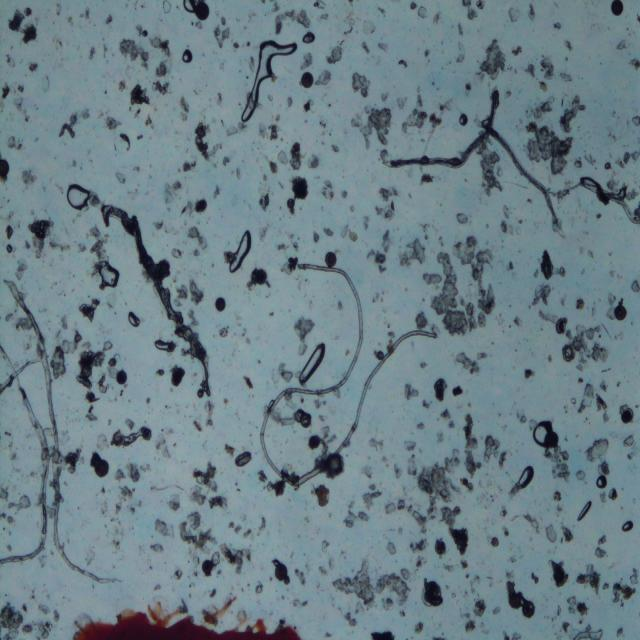Air bubble: (238, 38, 300, 126), (297, 342, 327, 384), (228, 232, 252, 274), (68, 183, 92, 214), (98, 261, 122, 291), (515, 464, 537, 493), (170, 363, 188, 393), (533, 420, 550, 446), (576, 500, 596, 521), (126, 309, 142, 329), (620, 519, 636, 534), (595, 474, 609, 490), (181, 0, 193, 15)
Background material: (435, 252, 472, 337), (523, 120, 573, 176), (568, 324, 618, 372), (334, 556, 378, 610), (382, 493, 431, 538), (179, 512, 219, 554), (472, 251, 494, 325), (461, 408, 484, 478), (418, 462, 456, 504), (148, 483, 206, 510), (359, 103, 393, 149), (544, 434, 574, 485), (375, 570, 413, 604), (114, 39, 154, 71), (481, 35, 507, 82), (268, 10, 314, 36), (7, 5, 39, 42), (560, 90, 588, 132), (194, 121, 222, 160), (77, 348, 105, 386), (371, 183, 399, 221), (222, 544, 252, 579), (191, 458, 221, 493), (398, 235, 428, 268), (419, 575, 447, 610), (307, 423, 335, 457), (576, 562, 604, 596), (406, 2, 446, 25), (49, 343, 71, 384), (74, 295, 103, 326), (610, 576, 637, 609), (111, 424, 153, 445), (0, 599, 23, 637), (547, 552, 571, 588), (454, 350, 483, 379), (502, 577, 526, 612), (449, 525, 473, 560), (483, 435, 507, 469), (452, 235, 481, 263), (524, 95, 554, 122), (516, 508, 544, 536), (28, 216, 56, 244), (574, 381, 597, 415), (126, 81, 152, 111), (267, 403, 291, 435), (402, 102, 427, 132), (8, 492, 35, 519), (585, 434, 611, 461), (152, 516, 180, 541), (458, 1, 492, 21), (154, 429, 174, 462), (406, 538, 428, 568), (594, 392, 612, 427), (538, 250, 559, 280), (565, 595, 590, 620), (528, 284, 554, 308), (570, 149, 596, 173), (498, 204, 520, 232), (435, 505, 463, 527), (591, 527, 609, 561), (248, 266, 274, 289), (228, 519, 256, 540), (215, 18, 232, 52), (292, 314, 315, 339), (618, 147, 640, 173), (58, 120, 80, 146), (11, 256, 33, 281), (360, 485, 382, 510), (189, 224, 209, 251), (90, 230, 108, 260), (258, 120, 280, 144), (339, 223, 361, 247), (325, 44, 347, 68), (152, 36, 174, 59), (540, 56, 558, 84), (291, 175, 309, 202), (327, 459, 346, 484), (353, 70, 371, 96), (359, 15, 381, 36), (444, 447, 462, 472), (289, 140, 304, 170), (320, 178, 338, 203), (188, 279, 206, 303), (570, 626, 606, 638), (284, 248, 302, 272), (178, 94, 193, 122), (203, 397, 217, 427), (153, 80, 175, 99), (342, 11, 358, 37), (469, 596, 487, 619), (64, 447, 82, 470), (364, 624, 398, 636), (206, 493, 230, 510), (560, 523, 576, 548), (7, 134, 27, 154), (316, 484, 332, 508), (558, 68, 578, 87), (34, 617, 54, 636), (314, 69, 334, 88), (155, 255, 173, 276), (406, 452, 420, 479), (258, 193, 276, 214), (369, 434, 387, 455), (312, 1, 330, 22), (371, 249, 389, 270), (154, 338, 176, 355), (598, 486, 620, 503), (422, 269, 444, 286), (292, 565, 308, 588), (118, 131, 134, 154), (256, 221, 272, 244), (435, 375, 447, 405), (20, 166, 38, 186), (525, 568, 545, 586), (194, 1, 212, 21), (413, 311, 433, 329), (575, 465, 592, 486), (265, 155, 282, 176), (104, 111, 121, 132), (506, 4, 522, 26), (440, 408, 456, 430), (401, 383, 421, 400), (402, 435, 419, 455), (149, 538, 169, 555), (453, 40, 467, 64), (383, 538, 399, 559), (362, 462, 378, 483), (420, 173, 442, 188), (132, 22, 150, 40), (153, 58, 172, 75), (16, 314, 32, 334), (181, 46, 197, 66), (457, 111, 472, 132), (537, 308, 559, 322), (343, 509, 357, 531), (221, 439, 235, 461), (522, 366, 539, 384), (0, 82, 17, 100), (192, 196, 210, 213), (560, 36, 576, 55), (392, 462, 406, 483), (257, 513, 269, 537), (620, 433, 638, 449), (85, 406, 101, 424), (512, 410, 528, 428), (190, 417, 205, 436), (302, 70, 316, 90), (319, 538, 333, 558), (2, 222, 16, 242), (129, 460, 140, 485), (547, 527, 560, 548), (556, 256, 569, 277), (170, 567, 187, 583), (321, 224, 337, 241), (252, 579, 266, 598), (84, 548, 98, 567), (285, 196, 299, 215), (300, 32, 320, 45), (526, 2, 539, 22), (356, 508, 372, 524), (278, 365, 293, 382), (225, 124, 240, 141), (506, 254, 520, 272), (187, 309, 201, 327), (176, 282, 188, 303), (242, 373, 256, 391), (180, 159, 198, 173), (499, 628, 524, 638), (210, 183, 223, 202), (454, 211, 470, 226), (173, 244, 185, 264), (212, 87, 224, 107), (371, 289, 387, 304), (489, 534, 503, 551), (308, 155, 322, 172), (358, 39, 372, 56), (116, 169, 129, 187), (106, 356, 121, 371), (511, 43, 527, 57), (526, 63, 539, 80), (627, 111, 640, 128), (381, 229, 392, 249), (78, 238, 90, 256), (452, 382, 464, 400), (82, 4, 94, 22), (28, 59, 40, 77), (550, 489, 562, 507), (143, 114, 155, 132), (284, 93, 296, 111), (154, 363, 166, 381), (85, 390, 100, 404), (171, 178, 185, 193), (219, 323, 233, 338), (310, 229, 321, 248), (301, 51, 314, 67), (208, 582, 220, 599), (414, 619, 426, 636), (114, 467, 126, 484), (378, 41, 392, 55), (57, 240, 72, 253), (73, 330, 85, 346), (560, 615, 570, 634), (302, 97, 313, 114), (416, 418, 428, 433), (628, 278, 640, 293), (553, 17, 565, 32), (575, 297, 586, 313), (462, 620, 478, 631), (629, 56, 640, 72), (87, 42, 97, 59), (421, 398, 433, 412), (104, 14, 116, 28), (616, 40, 630, 52), (121, 488, 135, 500), (103, 340, 115, 353), (397, 58, 409, 70), (133, 130, 145, 142), (331, 142, 342, 155), (161, 1, 171, 15), (516, 313, 522, 329), (223, 157, 233, 166), (423, 362, 431, 371), (6, 245, 14, 254)
Cellulose filter fibre: (3, 278, 121, 593), (102, 204, 214, 397), (381, 85, 501, 173), (485, 120, 566, 235), (564, 174, 640, 224)
Diatom: (232, 450, 255, 471), (612, 302, 630, 322), (274, 562, 290, 584), (608, 2, 626, 19), (0, 157, 12, 181), (522, 600, 538, 618), (96, 458, 112, 476), (200, 558, 214, 578), (554, 317, 568, 337), (322, 251, 340, 266), (434, 538, 447, 558), (563, 347, 579, 362), (620, 408, 636, 422), (216, 295, 227, 314), (300, 411, 312, 428), (117, 369, 129, 386)
Glass filter fibre: (0, 340, 49, 565)
Microfibre: (261, 263, 439, 486)
Pen: (69, 597, 307, 639)
